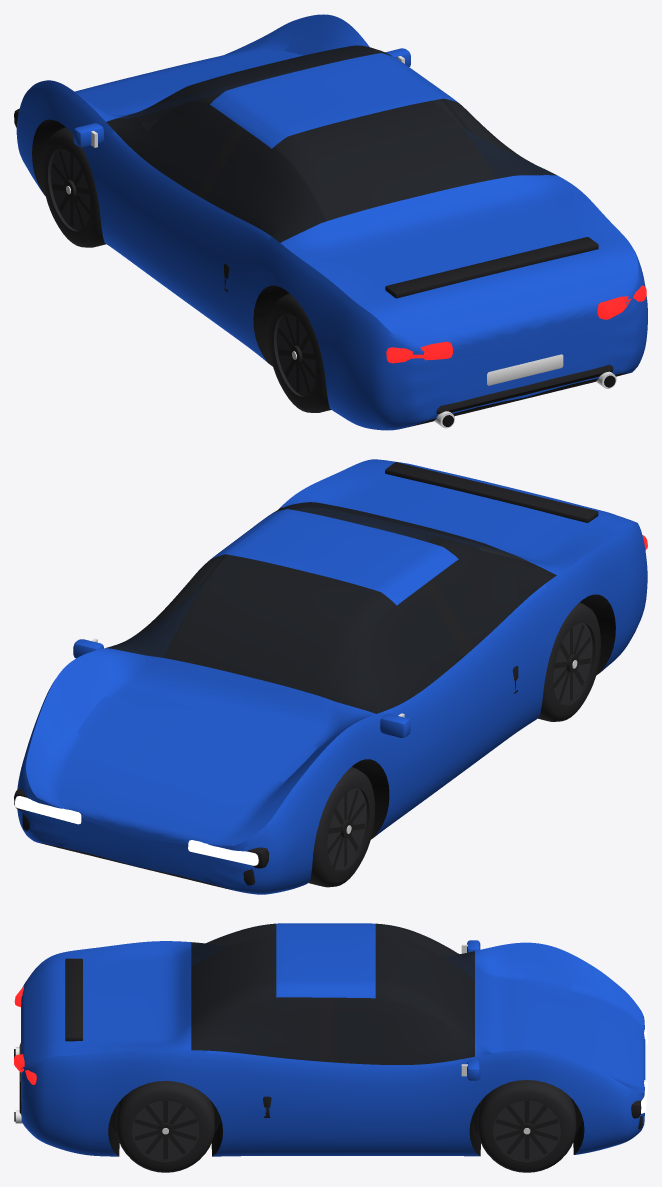
Rendered from alpine_a110.glb.
The picture shows the model from 3 angles, top to bottom: view 1: azimuth 30°, elevation 25°; view 2: azimuth 150°, elevation 25°; view 3: azimuth 270°, elevation 25°; orthographic projection. The views are drawn at different scales.
Parts seen in each view (by area): view 1: Body, Wheel_FL, Wheel_RL; view 2: Body, Wheel_FL, Wheel_RL; view 3: Body, Wheel_FR, Wheel_RR.
Part boxes in pixels (left/top/right/bottom): Body: left=14, top=14, right=647, bottom=430; Wheel_FL: left=42, top=127, right=106, bottom=247; Wheel_RL: left=268, top=293, right=331, bottom=412; Body: left=14, top=459, right=647, bottom=894; Wheel_FL: left=308, top=767, right=374, bottom=887; Wheel_RL: left=538, top=602, right=600, bottom=721; Body: left=14, top=923, right=647, bottom=1156; Wheel_FR: left=477, top=1080, right=576, bottom=1172; Wheel_RR: left=116, top=1081, right=214, bottom=1172.
Size of the model in its own units: 2.06 by 1.25 by 4.25.
